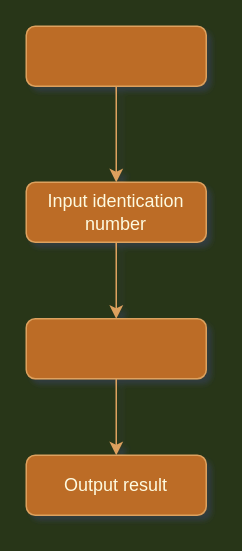
Some shapes in this 242 by 551 pixel diagram are drawn without their labels. The box of each missing label's shape, as (x1, y1, x2, y2) in pixels:
Terminal: (25, 25, 206, 86)
Validate: (25, 317, 206, 379)
